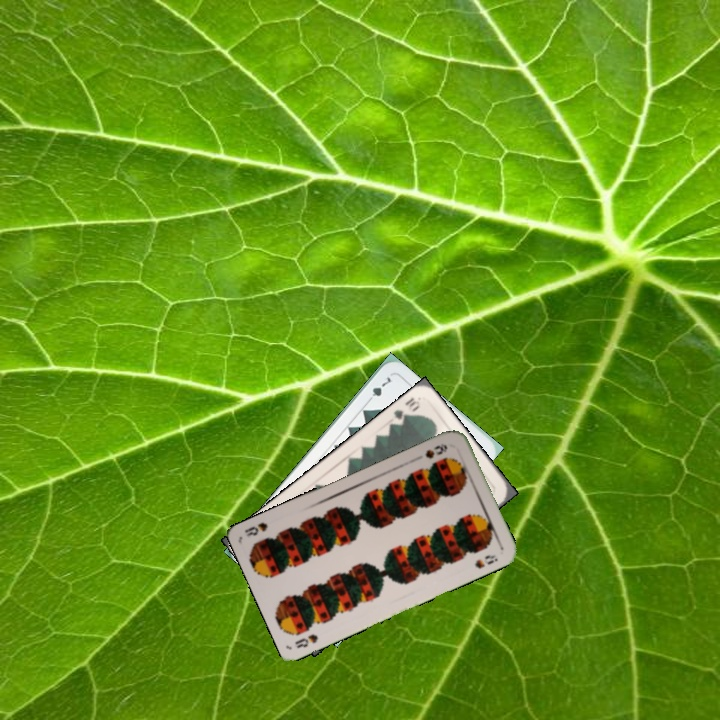G10: (389, 393, 423, 428)
G7: (363, 372, 393, 406)
S8: (421, 439, 450, 461), (291, 630, 320, 651)
